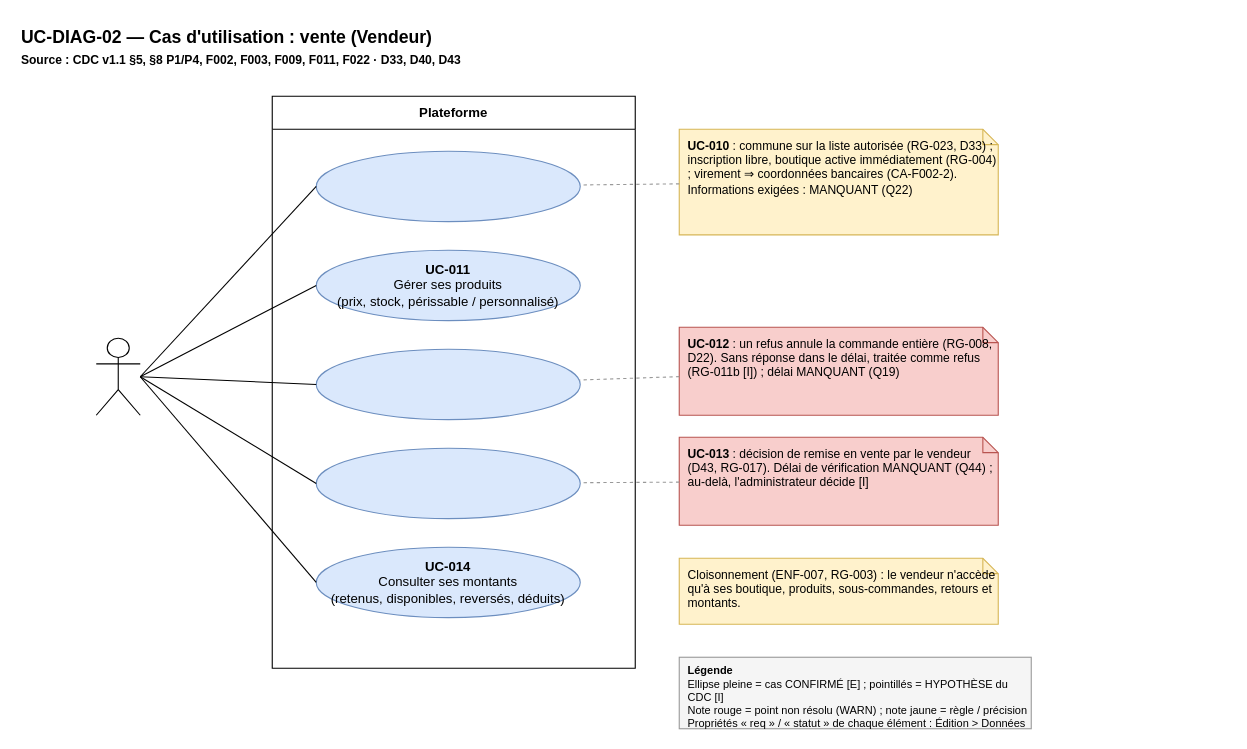
Image size: 1247x749. Some labels were removed from this diagram. The shapes that lost their labels are listed below. From the top down, each one's centre as x and y in pixels, then its label:
pixel 447 186: UC-010 S'inscrire comme vendeur et créer sa boutique
pixel 117 376: ACT-003 Vendeur
pixel 447 384: UC-012 Traiter une sous-commande (accepter / refuser / déclarer prête)
pixel 447 483: UC-013 Vérifier un produit retourné (conforme / contesté, remise en vente)
